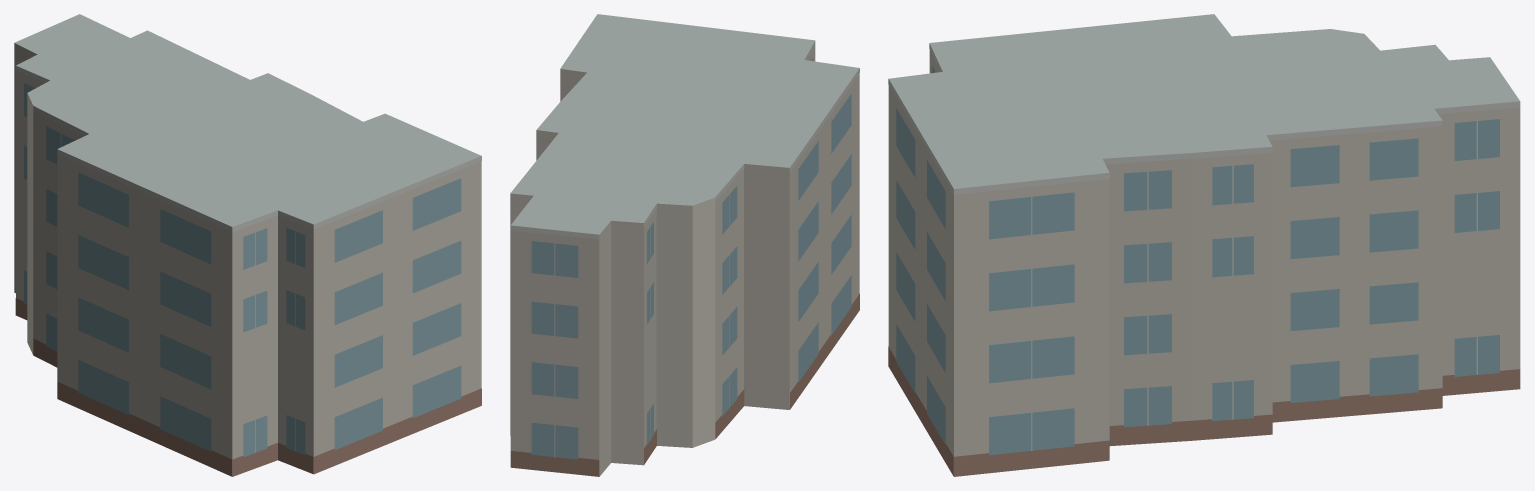
The model's file is survey-upis-32524367.glb.
3 renders of one model, left to right at view 1: azimuth 30°, elevation 25°; view 2: azimuth 150°, elevation 25°; view 3: azimuth 270°, elevation 25°, orthographic. The views are drawn at different scales.
Visible parts, largest first — view 1: survey-upis-32524367.tmp; view 2: survey-upis-32524367.tmp; view 3: survey-upis-32524367.tmp.
Boxes of the visible parts, <box> form: survey-upis-32524367.tmp: <box>14,14,481,476</box>; survey-upis-32524367.tmp: <box>510,14,859,476</box>; survey-upis-32524367.tmp: <box>888,14,1520,476</box>.
Bounding box in the file's own units: 15.79 × 12.1 × 24.08.
